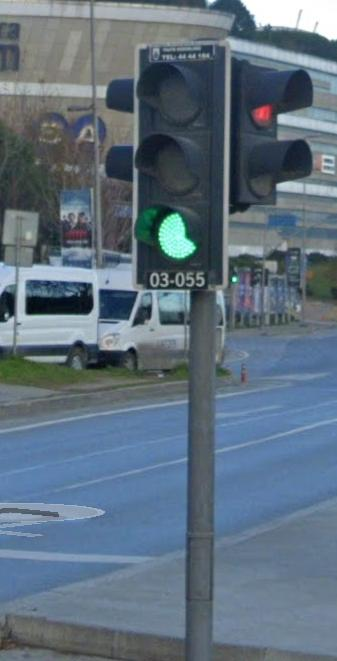greenlight: (140, 45, 228, 283)
